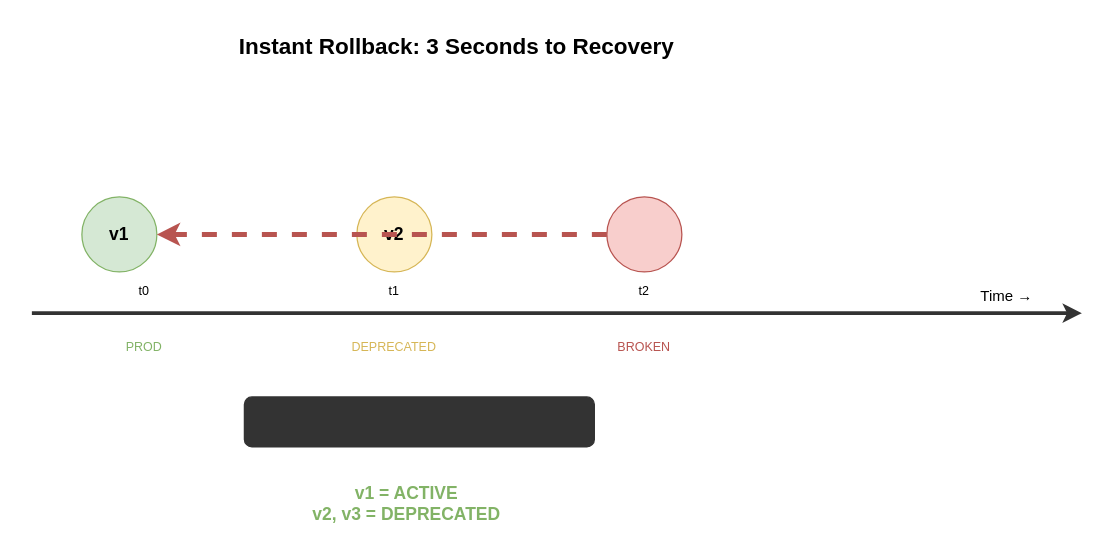
The diagram is 1115 pixels wide and 555 high, and some of its shapes have lost their labels. Each missing label, with the centre of its shape:
agent-manager rollback ops-agent: (418,421)
v3: (644,234)
